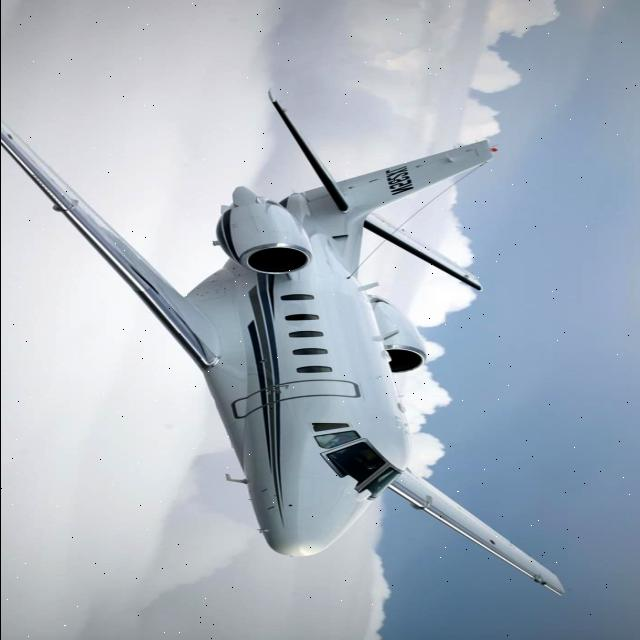jet: (9, 65, 586, 640)
